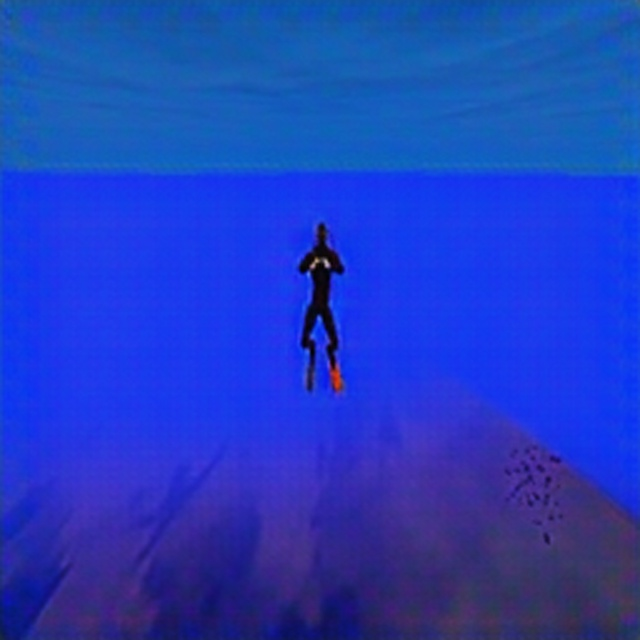diver: (295, 219, 347, 396)
